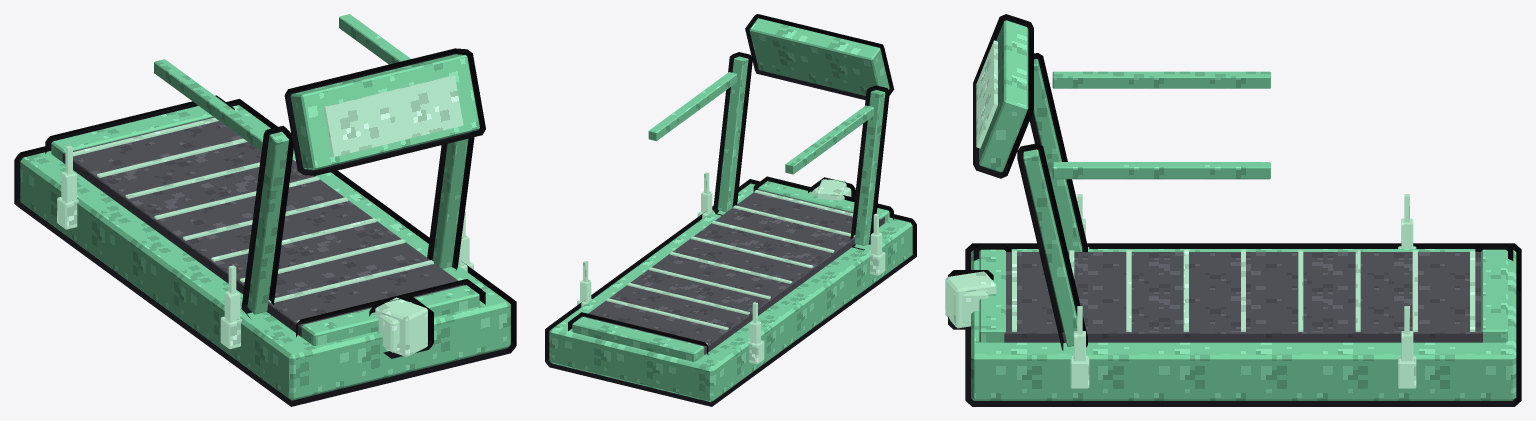
File: treadmill_05.glb
3 renders of one model, left to right at view 1: azimuth 30°, elevation 25°; view 2: azimuth 150°, elevation 25°; view 3: azimuth 270°, elevation 25°, orthographic. The views are drawn at different scales.
Parts seen in each view (by area): view 1: model; view 2: model; view 3: model.
Part boxes in pixels (<box>): model: <box>14,14,516,406</box>; model: <box>545,14,916,406</box>; model: <box>945,14,1521,406</box>.
Bounding box in the file's own units: 1.33 × 1.54 × 2.7.
4 materials, 3 textured.
